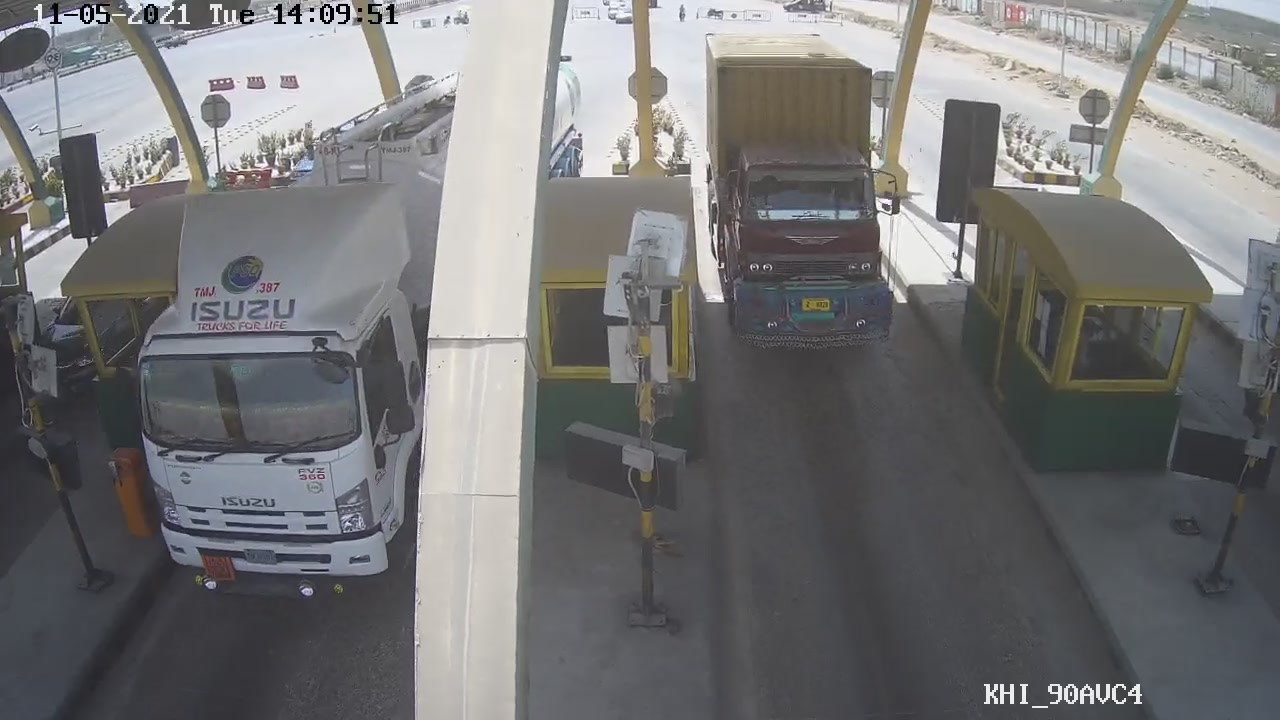F6: (692, 39, 910, 357)
